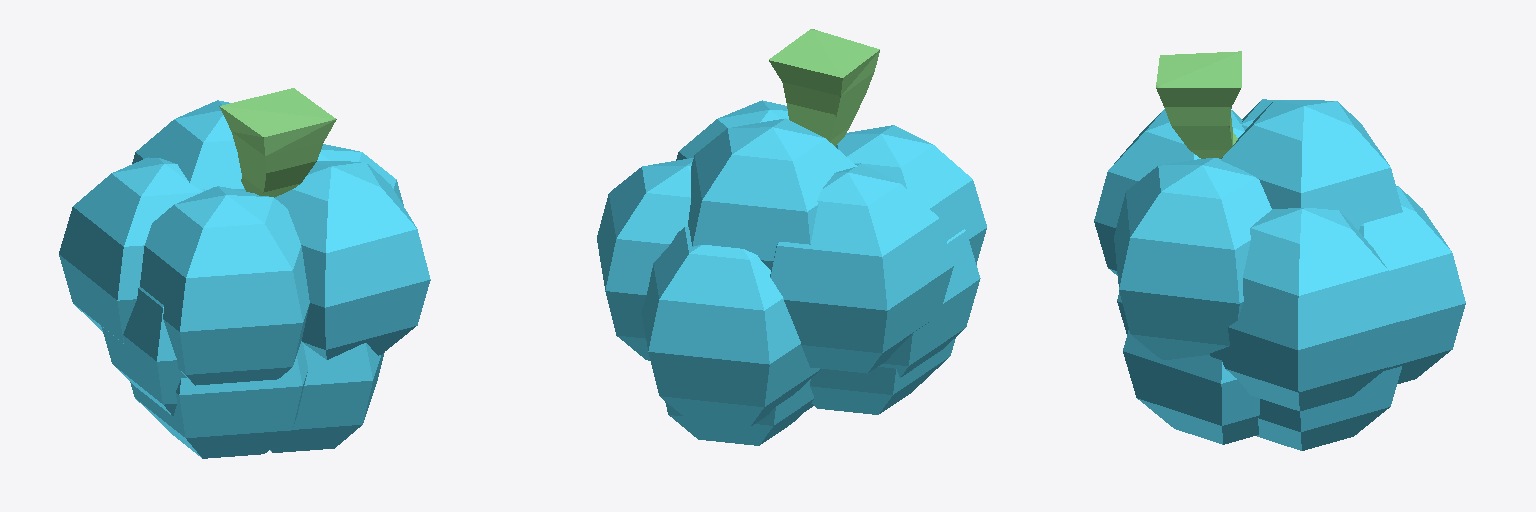
3 views of the same model, side by side, from view 1: azimuth 30°, elevation 25°; view 2: azimuth 150°, elevation 25°; view 3: azimuth 270°, elevation 25° (orthographic).
Visible parts, largest first — view 1: Sphere.006_Sphere.009, Sphere.005_Sphere.010, Sphere.007_Sphere.009, Sphere.000_Sphere.009, Plane.013, Sphere.008_Sphere.009, Sphere.003_Sphere.009, Sphere.001_Sphere.010, Sphere.010_Sphere.009; view 2: Sphere.007_Sphere.009, Sphere.002_Sphere.009, Sphere.003_Sphere.009, Sphere.010_Sphere.009, Plane.013, Sphere.006_Sphere.009, Sphere.000_Sphere.009, Sphere.001_Sphere.010, Sphere.004_Sphere.009, Sphere.005_Sphere.010; view 3: Sphere.010_Sphere.009, Sphere.005_Sphere.010, Sphere.003_Sphere.009, Sphere.002_Sphere.009, Sphere.008_Sphere.009, Plane.013, Sphere.004_Sphere.009, Sphere.006_Sphere.009.
Part boxes in pixels (left/top/right/bottom): Sphere.006_Sphere.009: left=140, top=186, right=309, bottom=385; Sphere.005_Sphere.010: left=275, top=161, right=430, bottom=359; Sphere.007_Sphere.009: left=59, top=157, right=204, bottom=343; Sphere.000_Sphere.009: left=130, top=341, right=307, bottom=458; Plane.013: left=219, top=88, right=336, bottom=197; Sphere.008_Sphere.009: left=270, top=343, right=384, bottom=452; Sphere.003_Sphere.009: left=132, top=100, right=245, bottom=191; Sphere.001_Sphere.010: left=101, top=287, right=186, bottom=415; Sphere.010_Sphere.009: left=317, top=144, right=403, bottom=205; Sphere.007_Sphere.009: left=770, top=163, right=953, bottom=373; Sphere.002_Sphere.009: left=642, top=227, right=820, bottom=426; Sphere.003_Sphere.009: left=688, top=118, right=857, bottom=269; Sphere.010_Sphere.009: left=597, top=158, right=693, bottom=360; Plane.013: left=769, top=29, right=879, bottom=146; Sphere.006_Sphere.009: left=836, top=125, right=986, bottom=264; Sphere.000_Sphere.009: left=810, top=338, right=955, bottom=414; Sphere.001_Sphere.010: left=878, top=229, right=980, bottom=377; Sphere.004_Sphere.009: left=665, top=379, right=813, bottom=445; Sphere.005_Sphere.010: left=676, top=100, right=788, bottom=160; Sphere.010_Sphere.009: left=1210, top=208, right=1401, bottom=410; Sphere.005_Sphere.010: left=1114, top=158, right=1271, bottom=359; Sphere.003_Sphere.009: left=1221, top=100, right=1402, bottom=230; Sphere.002_Sphere.009: left=1359, top=186, right=1465, bottom=383; Sphere.008_Sphere.009: left=1123, top=330, right=1259, bottom=444; Plane.013: left=1156, top=51, right=1241, bottom=158; Sphere.004_Sphere.009: left=1257, top=366, right=1401, bottom=450; Sphere.006_Sphere.009: left=1094, top=109, right=1244, bottom=275.
Bounding box in the file's own units: 3.52 × 3.67 × 3.49.
2 materials, 2 textured.